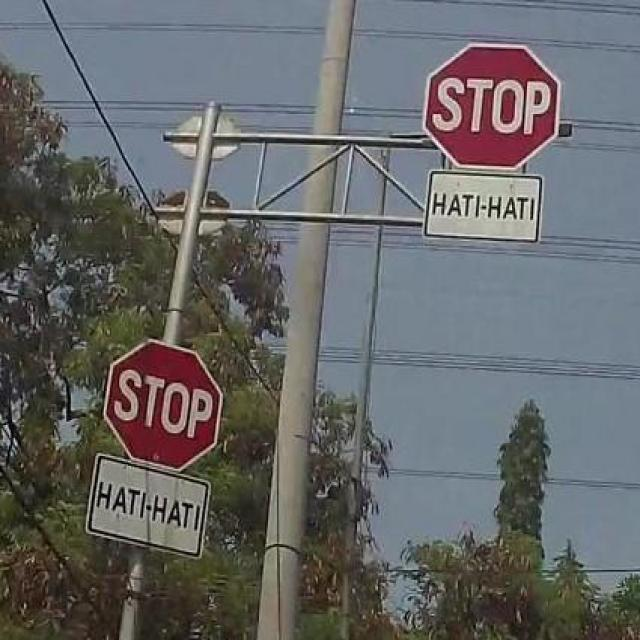traffic sign: (425, 42, 560, 172), (98, 341, 216, 473)
